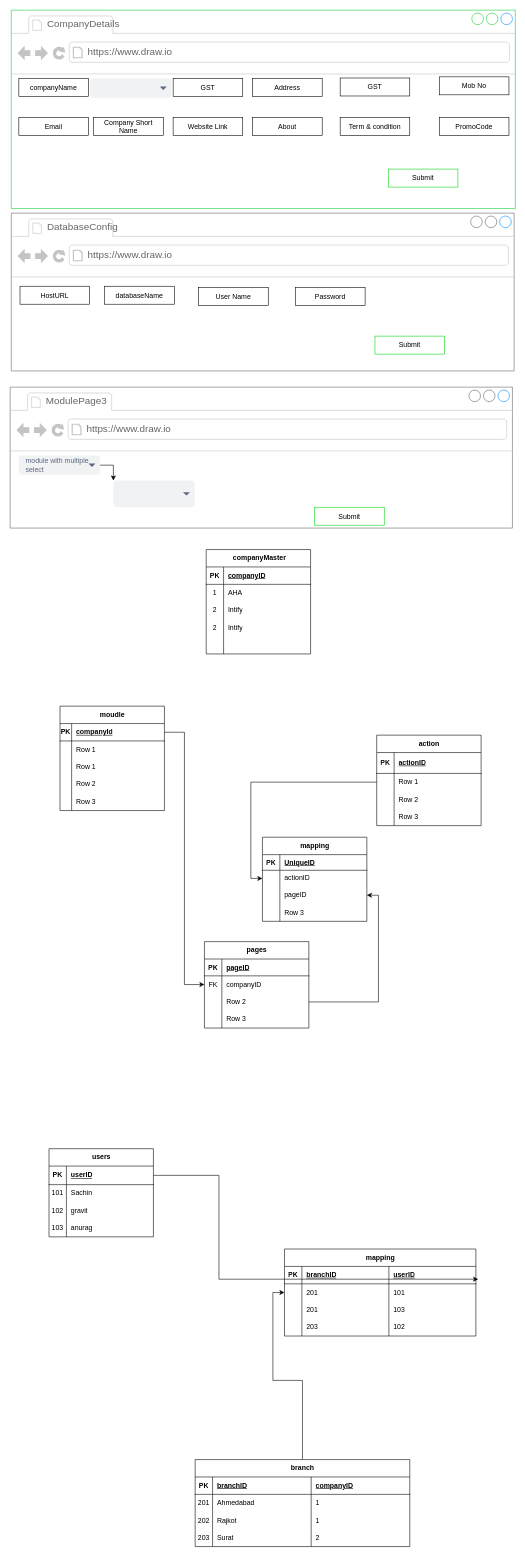
The diagram is 525 pixels wide and 1557 high, and some of its shapes have lost their labels. The centre of each missing label's shape, as x and y in pixels:
ApplicationType: (130,87)
select mulitple pages with respective to modules: (153,493)
